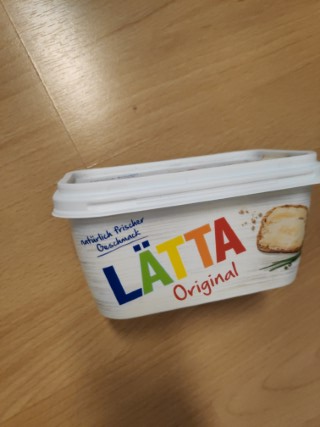laetta: (51, 148, 320, 323)
